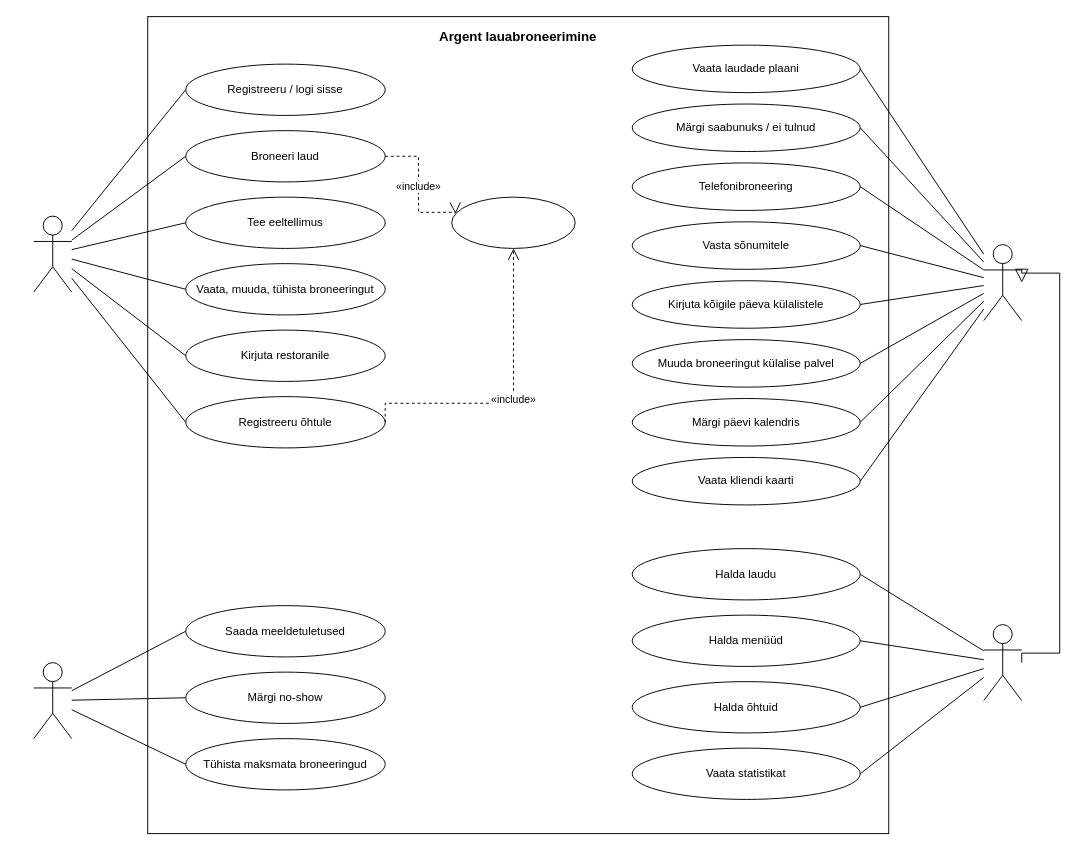
Image size: 1090x850. Some labels were removed from this diagram. Each missing label, with the centre of its shape:
Administraator: the point at 1002,662
Klient: the point at 52,253
Maksa: the point at 513,222
Taustateenus (Worker): the point at 52,700
Teenindaja: the point at 1002,282
